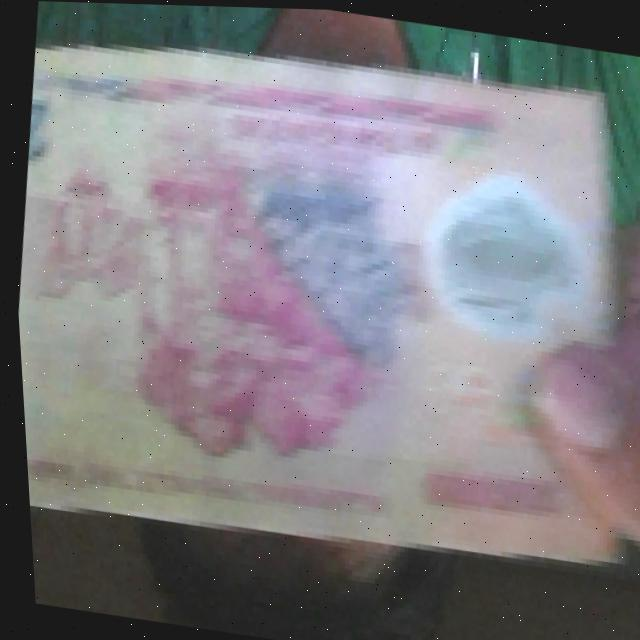200 000 VND: (0, 5, 640, 602)
